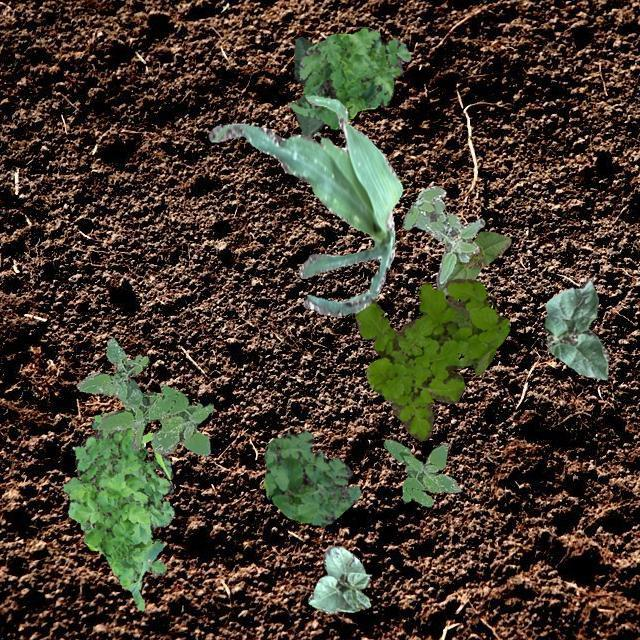crop: (208, 94, 402, 316), (542, 278, 608, 378), (436, 232, 510, 294), (306, 544, 371, 612), (294, 36, 324, 136)
weed: (353, 278, 508, 440), (61, 412, 172, 610), (76, 336, 212, 456), (288, 27, 410, 128), (262, 430, 360, 526), (402, 184, 484, 284), (382, 438, 460, 506), (80, 520, 90, 532)
